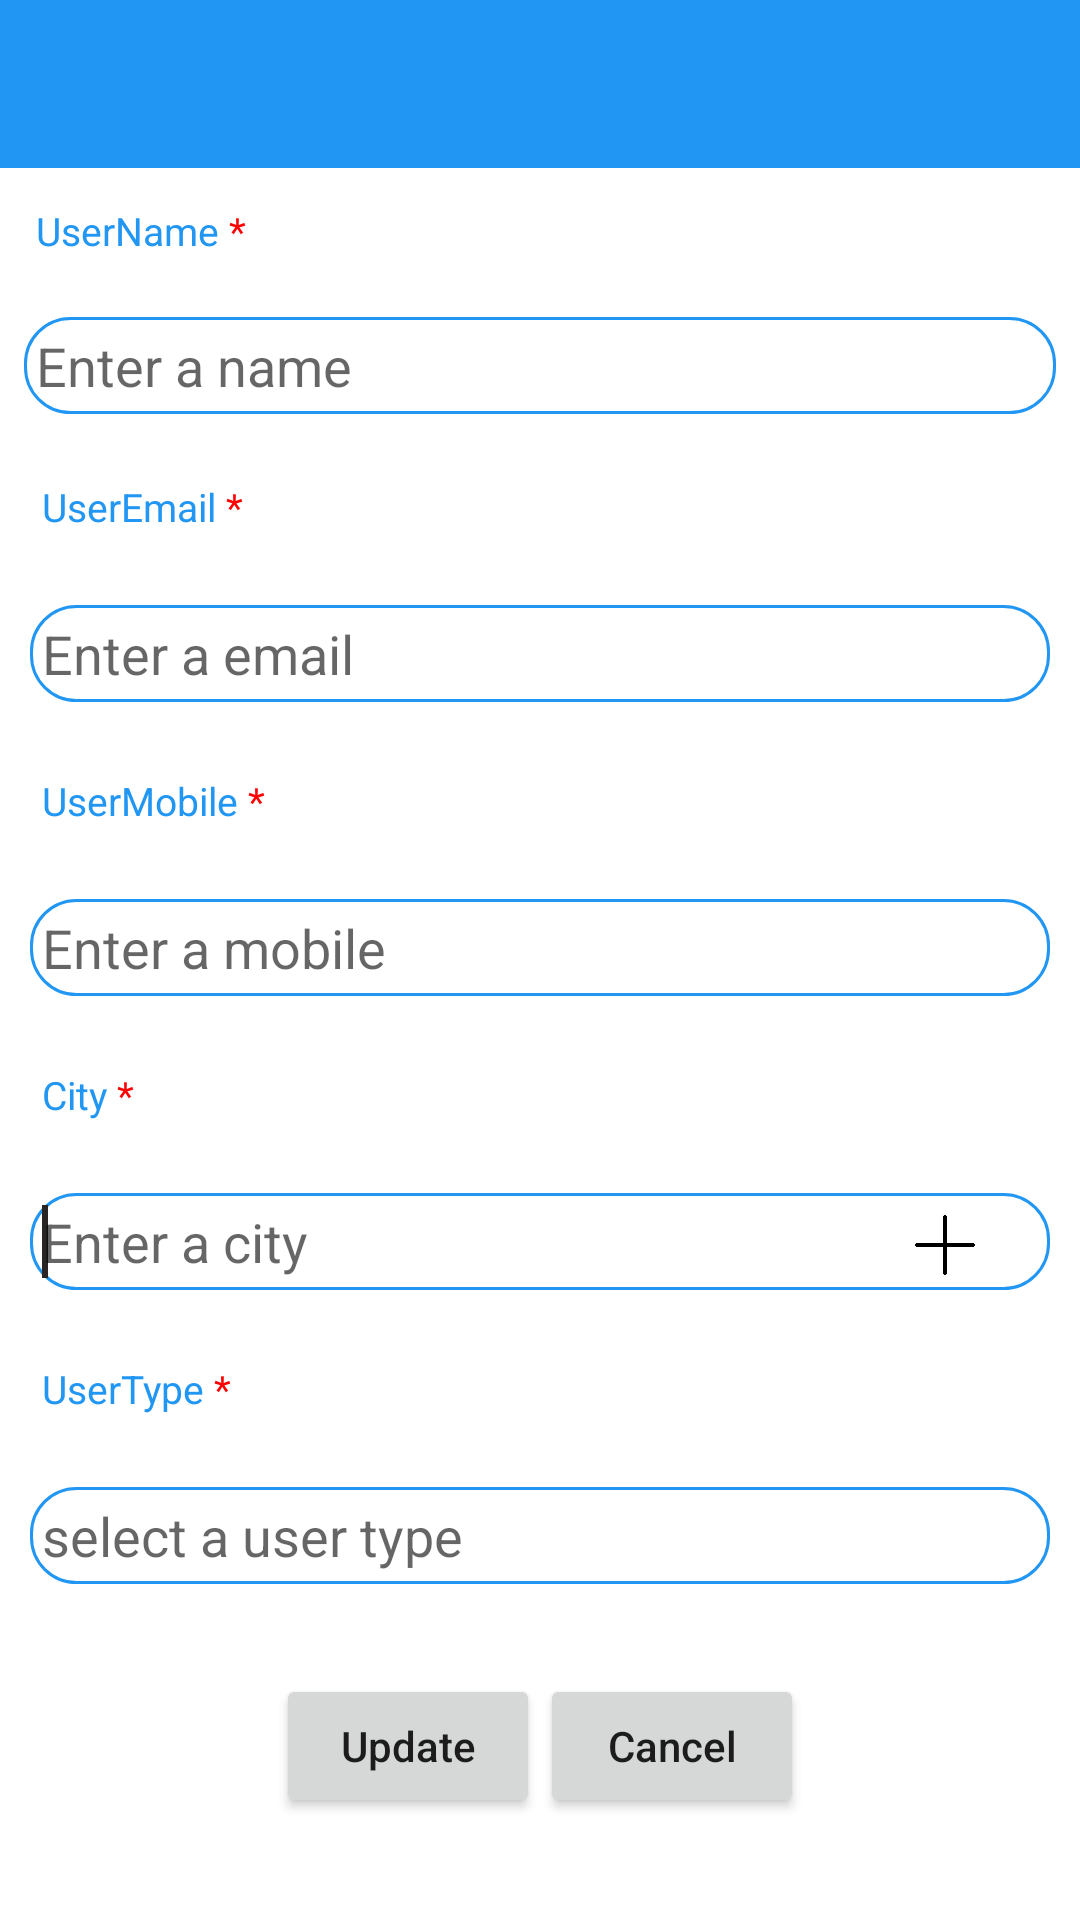

Where icons sit on this 1080 × 1920 app screen, as (x1, y1, x2, y2):
add: (915, 1215, 975, 1275)
